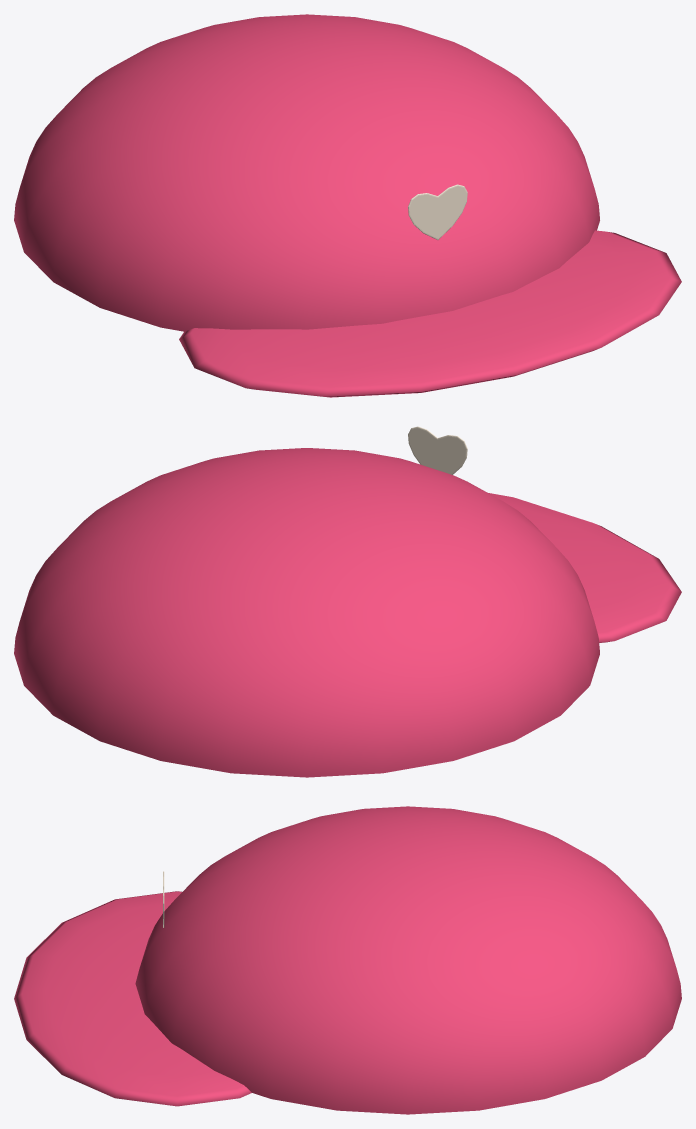
Rendered from cap_pink.glb.
The picture shows the model from 3 angles, top to bottom: view 1: azimuth 30°, elevation 25°; view 2: azimuth 150°, elevation 25°; view 3: azimuth 270°, elevation 25°; orthographic projection. The views are drawn at different scales.
Visible parts, largest first — view 1: Gorra corazón; view 2: Gorra corazón; view 3: Gorra corazón.
Part boxes in pixels (x1=…): Gorra corazón: x1=14, y1=14, x2=681, y2=397; Gorra corazón: x1=14, y1=426, x2=681, y2=777; Gorra corazón: x1=14, y1=806, x2=681, y2=1114.
Bounding box in the file's own units: 0.57 × 0.1947 × 0.695.
